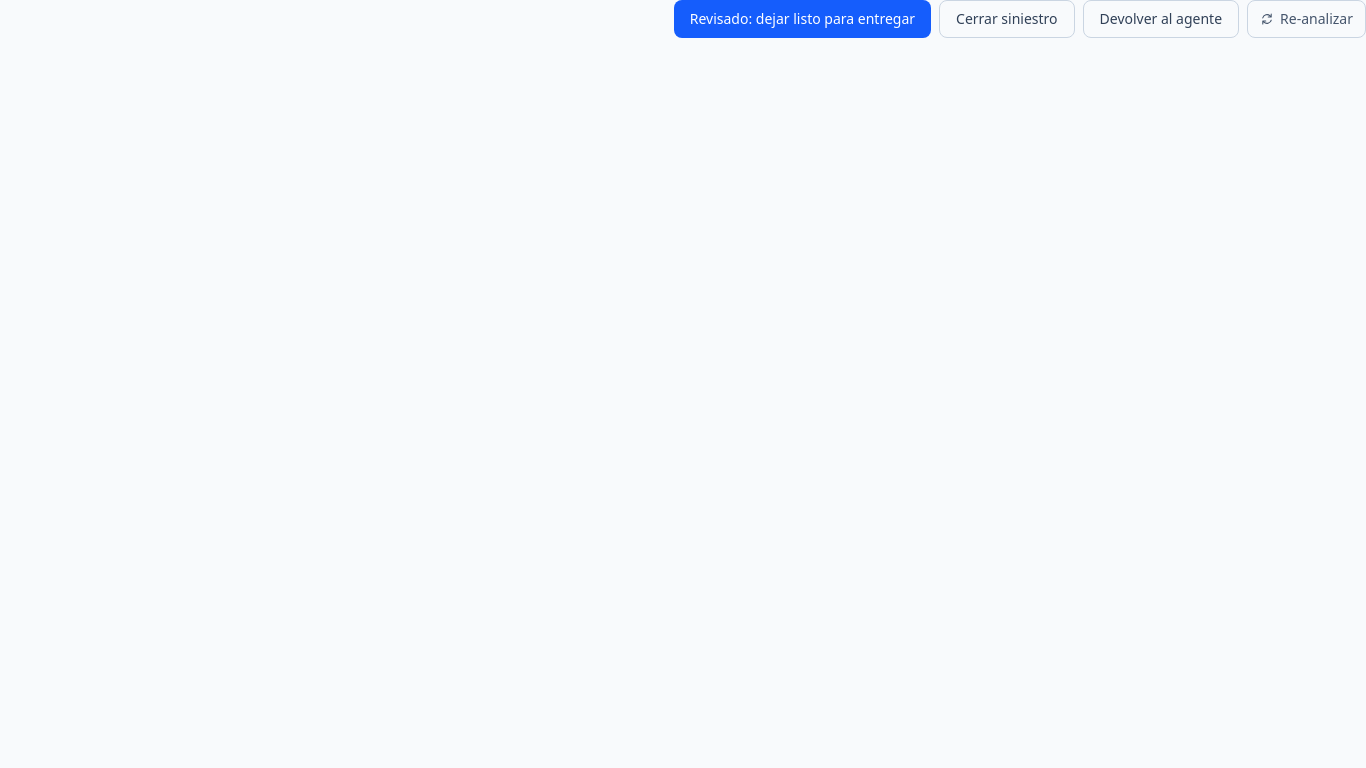
Test: Devolver al agente (E24) › al confirmar, el PATCH manda exactamente {status, reason} del contrato
Click the button with test id "action-devolver-al-agente". click: (1161, 19)
box: [1082,0,1239,38]
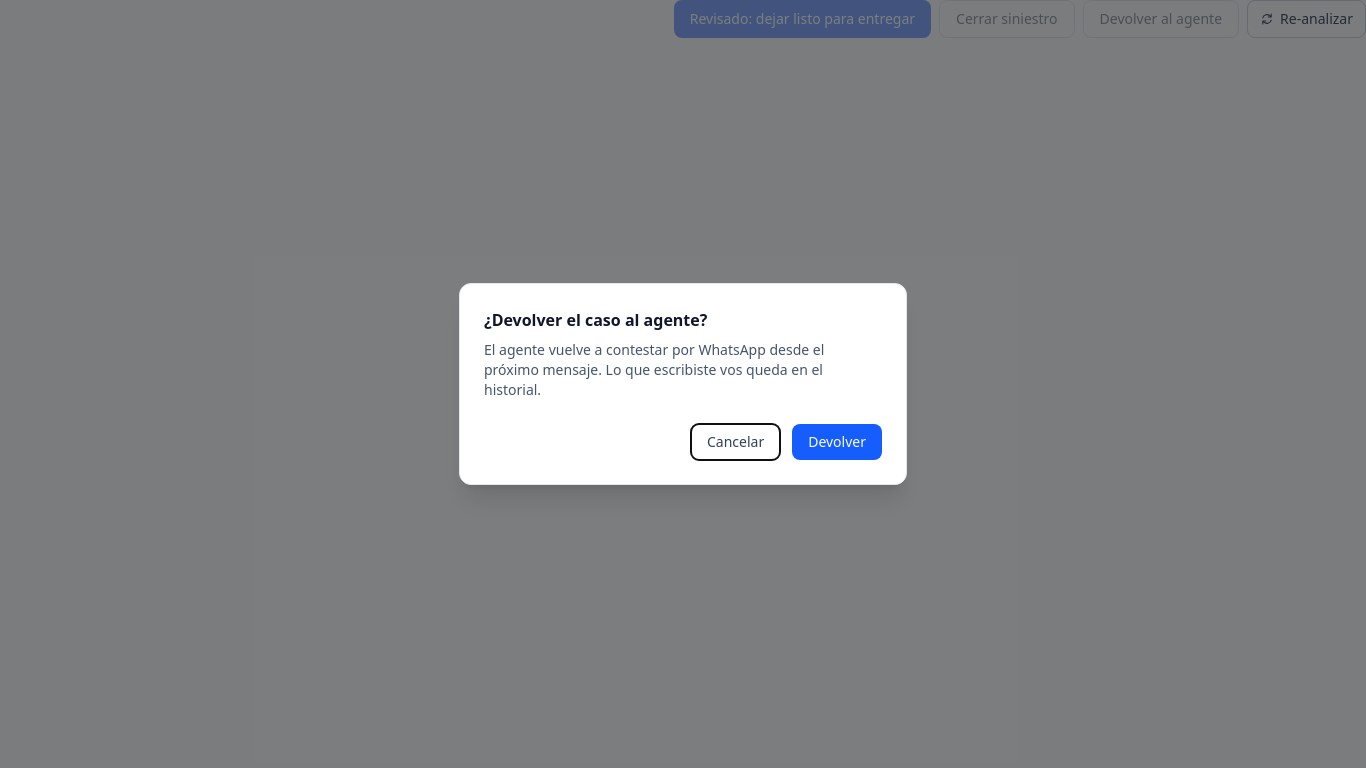
Click the button with test id "devolver-al-agente-confirm-button". click: (837, 442)
box: [792,424,882,460]
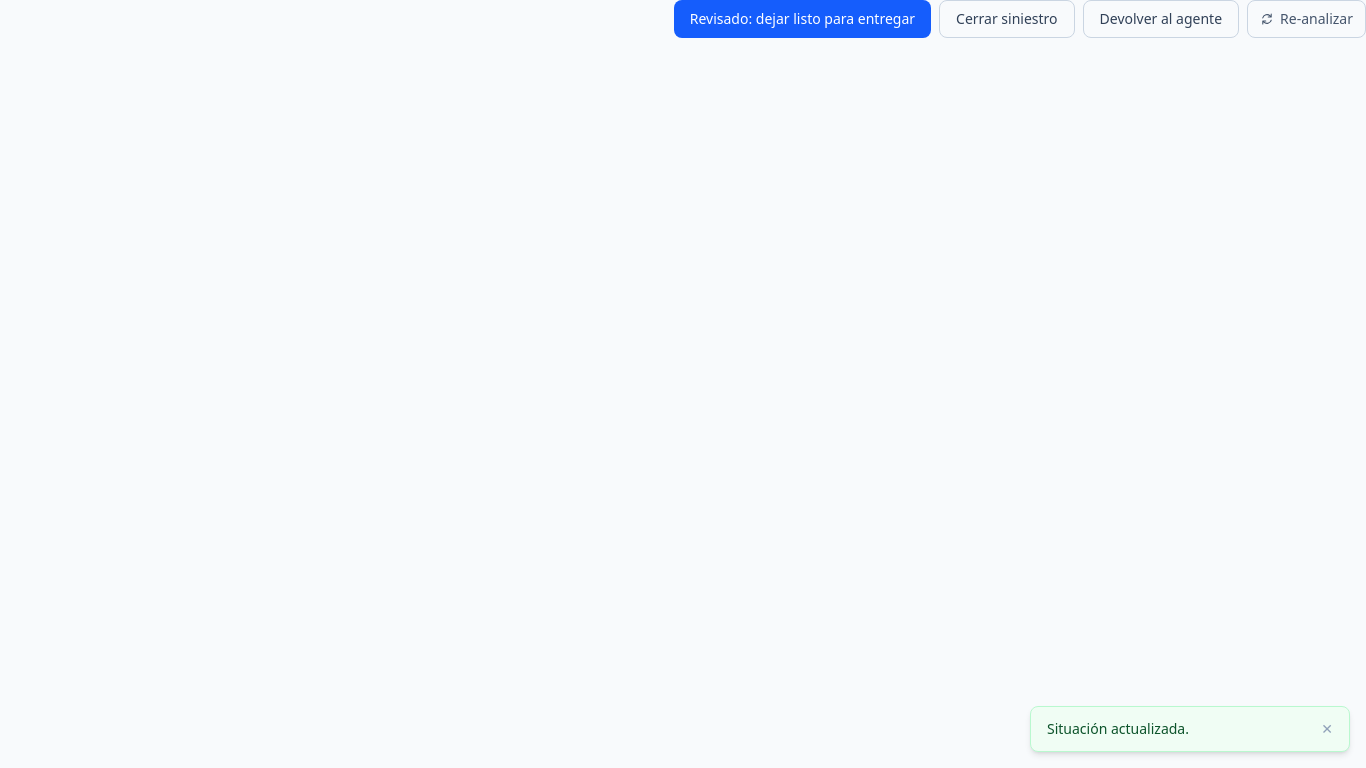
Expected: the text "Situación actualizada." is shown, [1047,719,1189,739]
